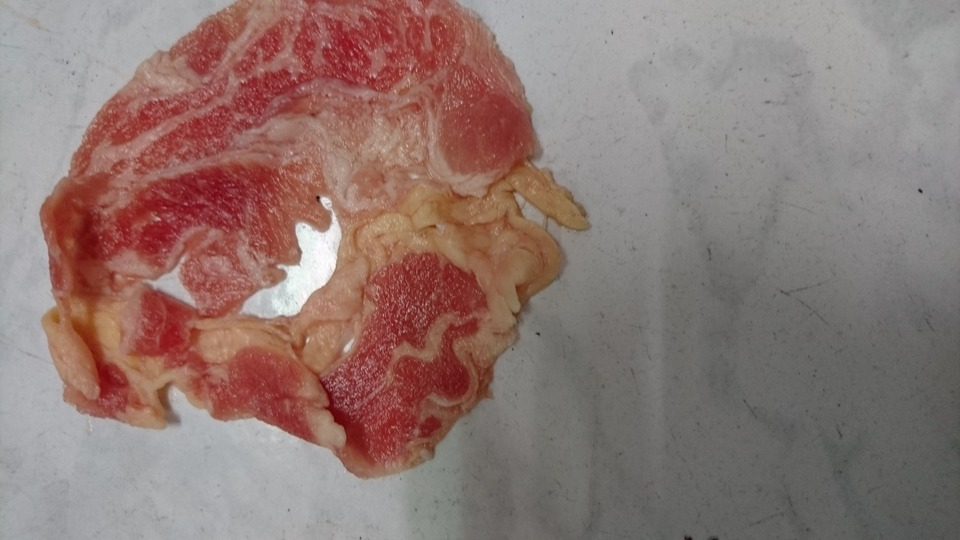restructured meat: (30, 4, 562, 483)
